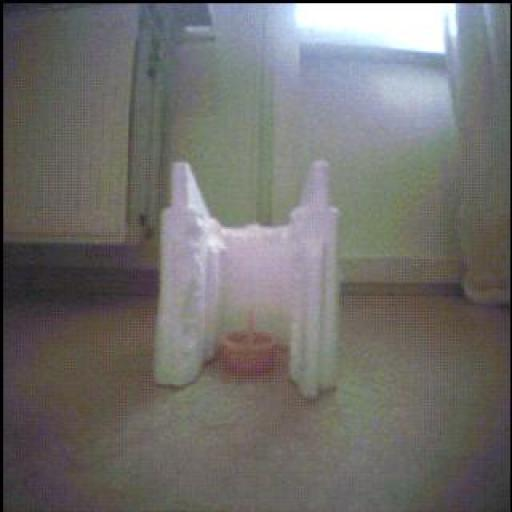Basket: (221, 332, 280, 377)
